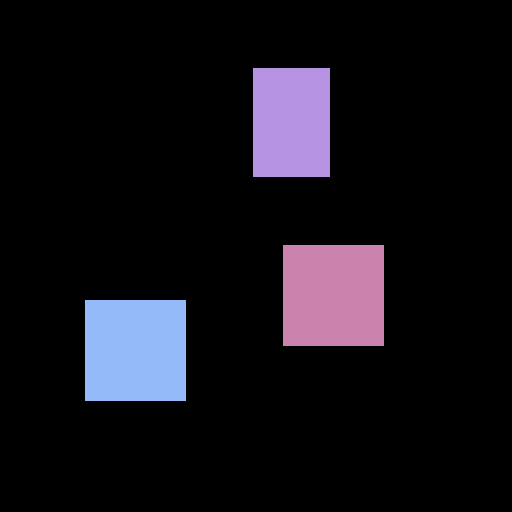rectangle: (253, 68, 329, 176)
square: (85, 300, 185, 400), (283, 245, 383, 345)
